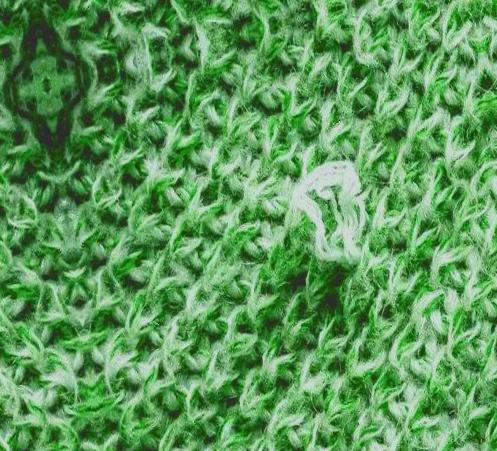snag: (283, 153, 378, 278)
